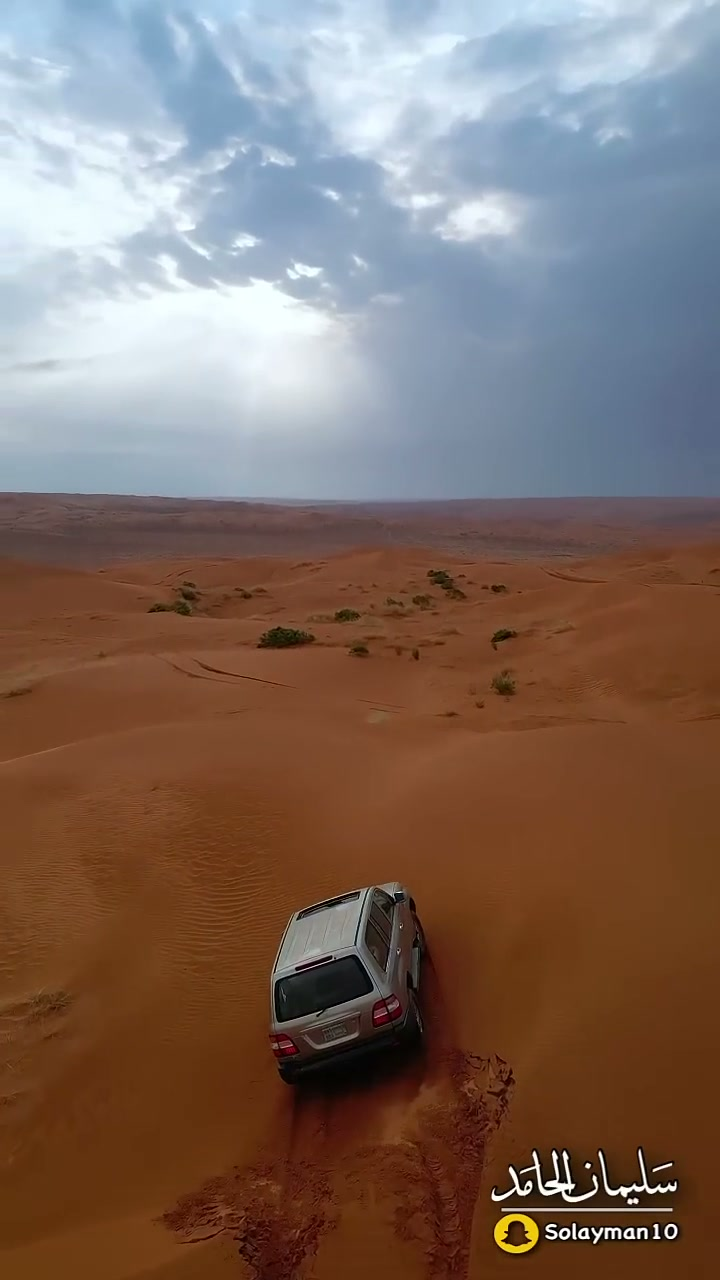vehicle_track: (261, 1050, 518, 1256)
